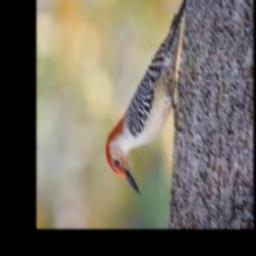Woodpecker: (105, 0, 189, 195)
